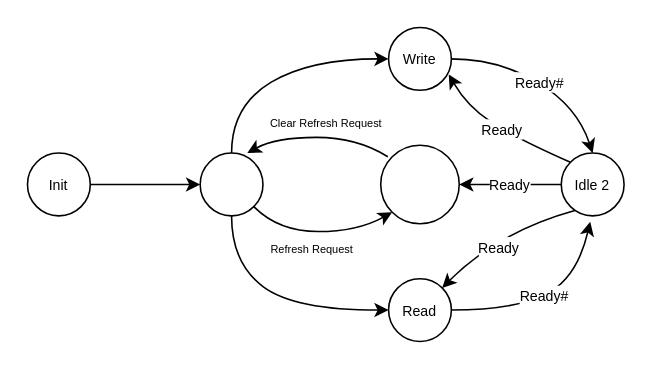
The diagram is 652 pixels wide and 369 high, and some of its shapes have lost their labels. The box of each missing label's shape, as (x1, y1, x2, y2) in pixels:
Auto-Refresh: (379, 144, 459, 224)
Idle: (199, 152, 263, 216)
